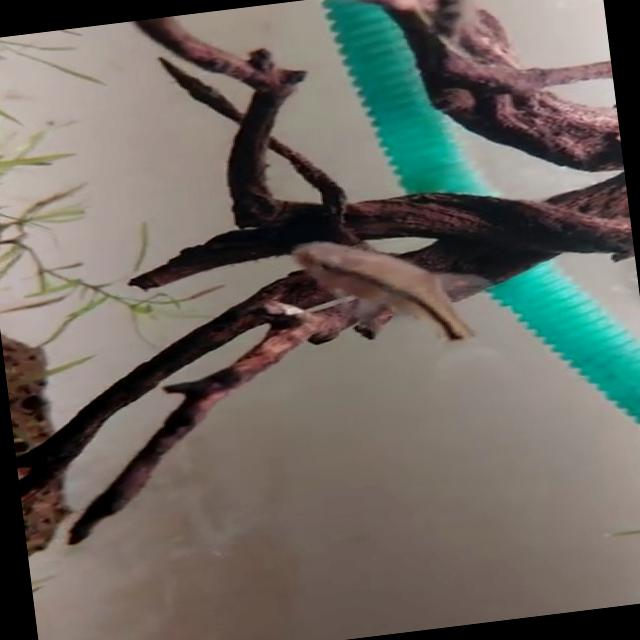Cakil Baligi: (290, 215, 525, 392)
